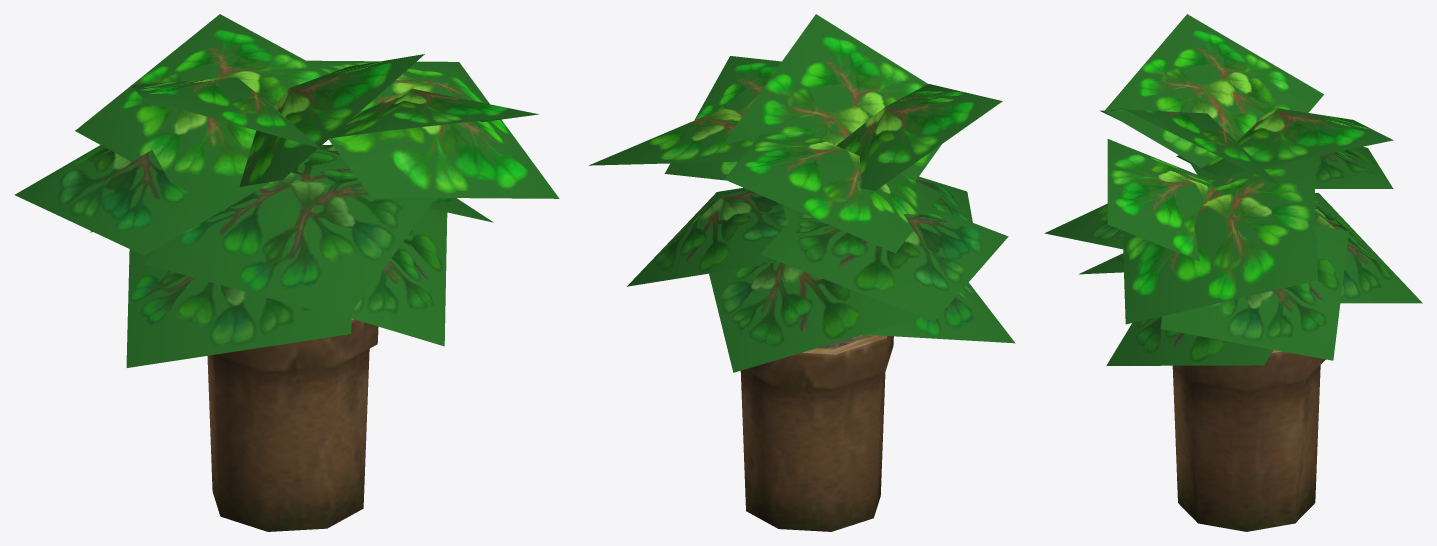
File: wm_灌木盆栽12.fbx
The picture shows the model from 3 angles, left to right: view 1: azimuth 30°, elevation 25°; view 2: azimuth 150°, elevation 25°; view 3: azimuth 270°, elevation 25°; orthographic projection. The views are drawn at different scales.
Visible parts, largest first — view 1: wm_灌木盆栽12; view 2: wm_灌木盆栽12; view 3: wm_灌木盆栽12.
Part boxes in pixels (x1,y1,x2,y2): wm_灌木盆栽12: (15,14,559,531); wm_灌木盆栽12: (589,14,1015,531); wm_灌木盆栽12: (1044,14,1422,531).
Bounding box in the file's own units: 147 × 162 × 132.
